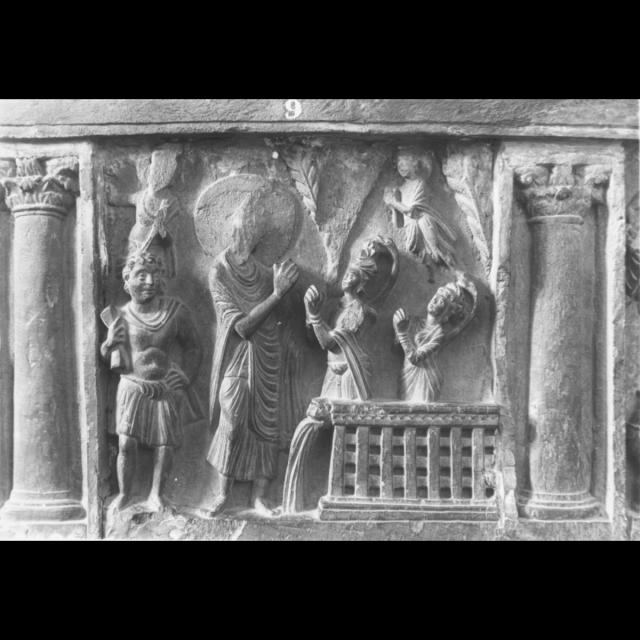buddha-standing: (194, 174, 302, 515)
